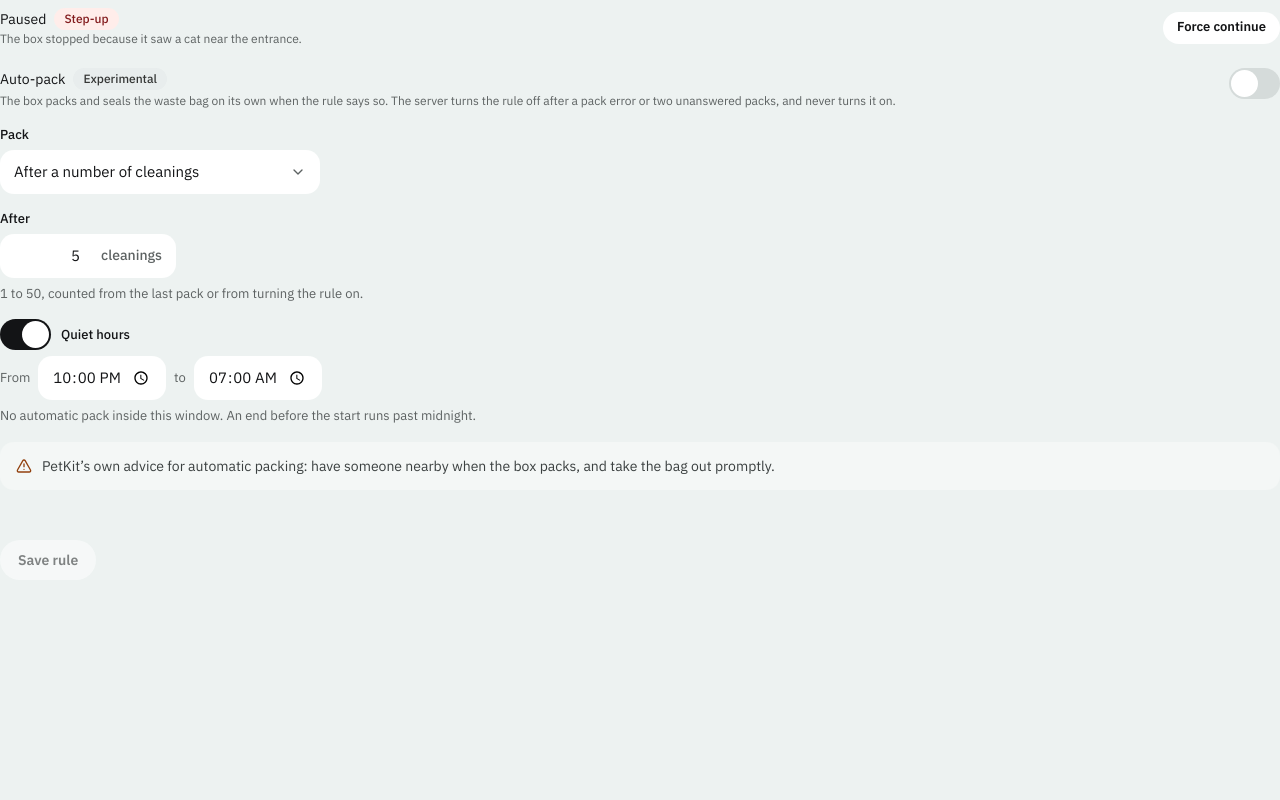
Force continue › shows the server sentence when the command could not be sent
The width and height of the screenshot is (1280, 800).
Click the button "Force continue": [1222, 28] box [1163,12,1279,44]
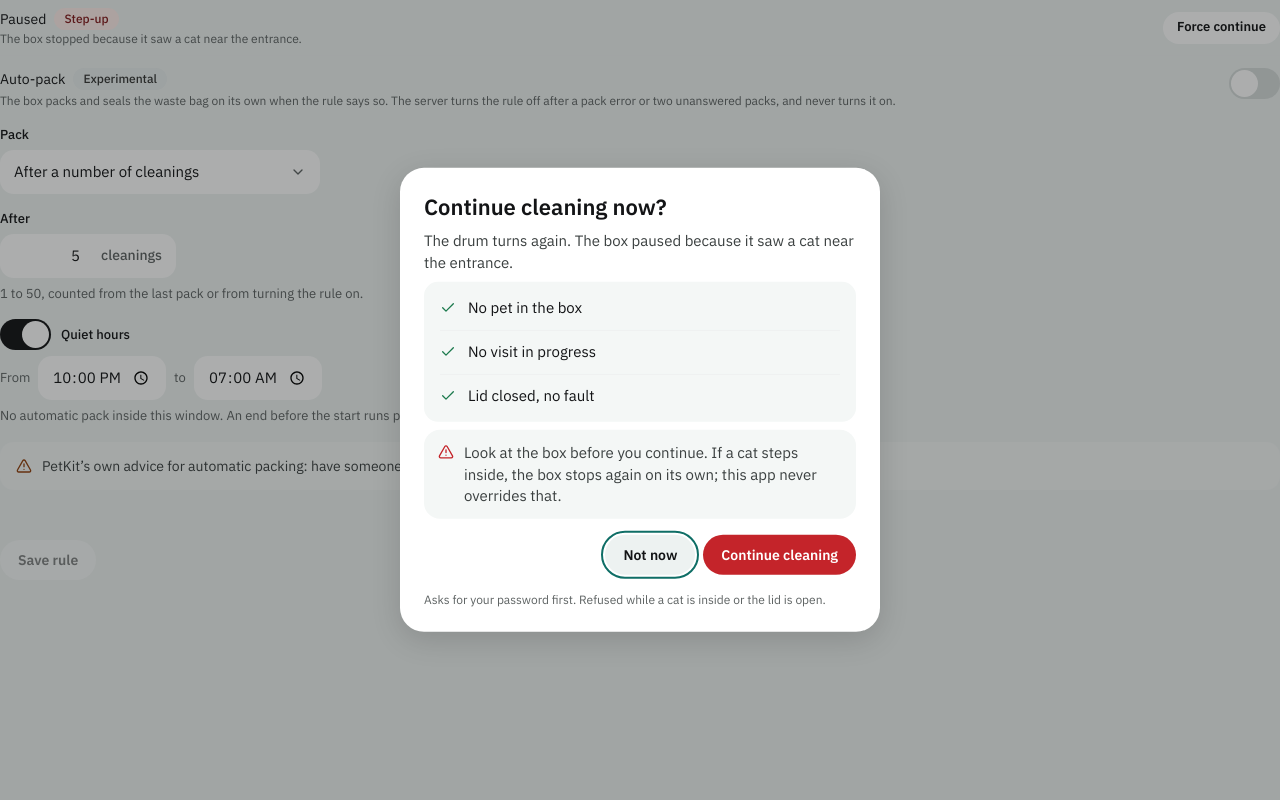
Click the button "Continue cleaning": [780, 555] box [703,535,856,575]
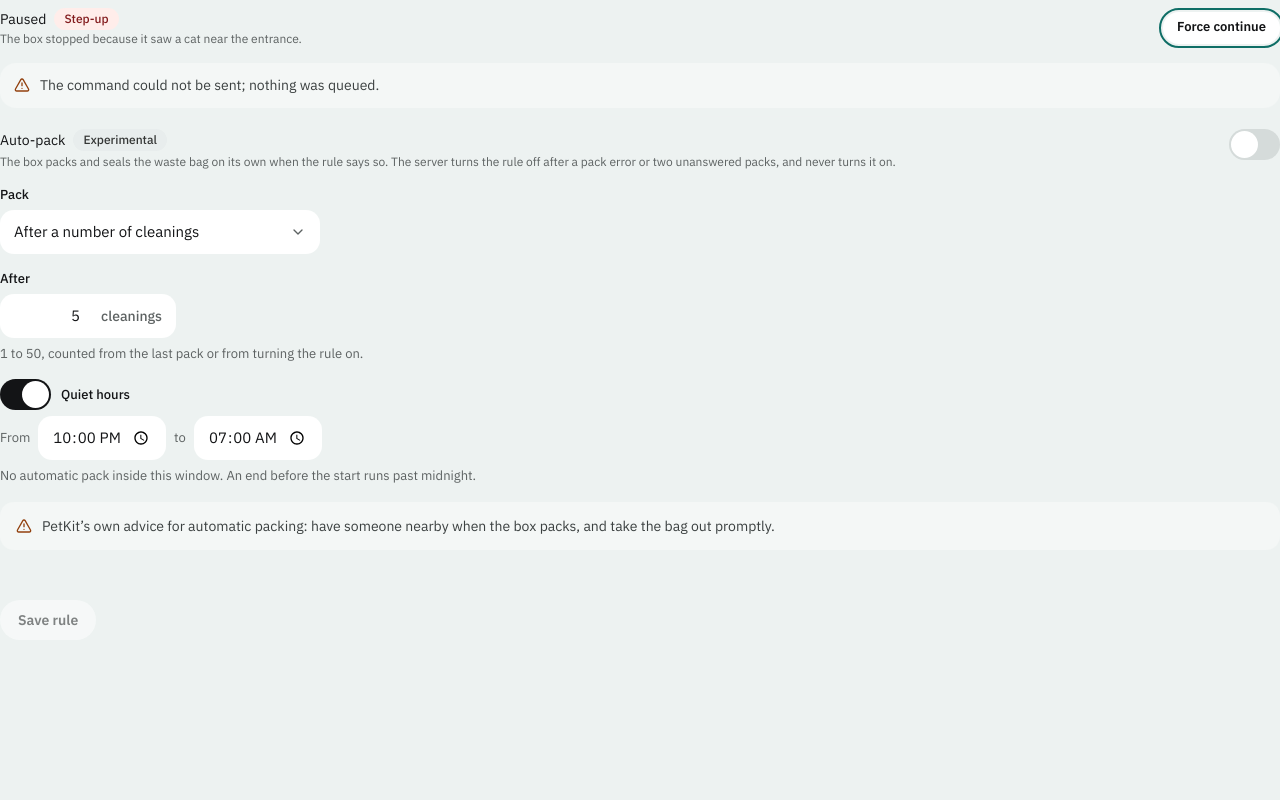
Expected: the message "The command could not be sent; nothing was queued." is shown, [0,63,1279,108]
